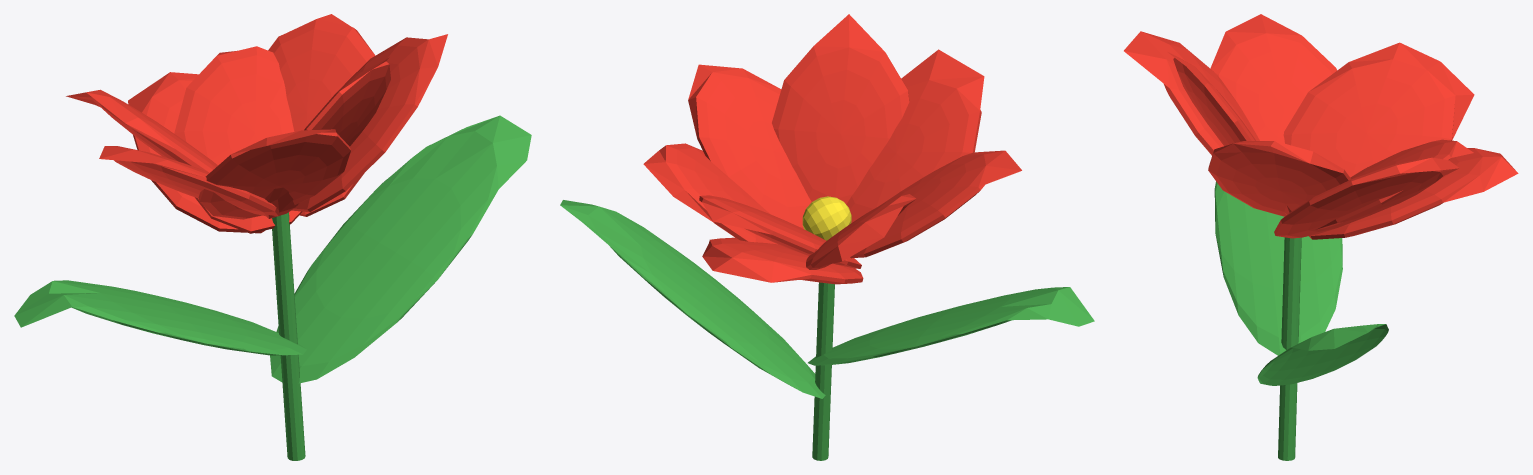
File: RedFlower.fbx
The picture shows the model from 3 angles, left to right: view 1: azimuth 30°, elevation 25°; view 2: azimuth 150°, elevation 25°; view 3: azimuth 270°, elevation 25°; orthographic projection. The views are drawn at different scales.
Parts seen in each view (by area): view 1: group632163950, group279081239, group222131052, group341342680, group1598894503, group726883720, group1800673276, group1860435482, group549322403, group665637453, group290790927; view 2: group1860435482, group632163950, group726883720, group341342680, group222131052, group549322403, group1598894503, group665637453, group279081239, group290790927, group1800673276, group1492198814; view 3: group290790927, group222131052, group549322403, group726883720, group1598894503, group665637453, group632163950, group341342680, group1800673276, group1860435482, group279081239.
Boxes of the visible parts, bbox=[...] form: group632163950: bbox=[270, 115, 531, 383]; group279081239: bbox=[174, 46, 302, 233]; group222131052: bbox=[14, 280, 306, 355]; group341342680: bbox=[198, 129, 350, 219]; group1598894503: bbox=[268, 14, 375, 216]; group726883720: bbox=[291, 34, 447, 212]; group1800673276: bbox=[272, 212, 305, 460]; group1860435482: bbox=[265, 57, 390, 218]; group549322403: bbox=[99, 146, 279, 216]; group665637453: bbox=[128, 72, 265, 233]; group290790927: bbox=[66, 89, 217, 172]; group1860435482: bbox=[772, 14, 909, 204]; group632163950: bbox=[560, 200, 825, 398]; group726883720: bbox=[688, 64, 811, 228]; group341342680: bbox=[846, 49, 984, 222]; group222131052: bbox=[808, 287, 1094, 365]; group549322403: bbox=[850, 150, 1021, 258]; group1598894503: bbox=[643, 143, 777, 244]; group665637453: bbox=[702, 237, 863, 284]; group279081239: bbox=[699, 195, 861, 268]; group290790927: bbox=[806, 194, 916, 269]; group1800673276: bbox=[812, 282, 834, 460]; group1492198814: bbox=[802, 196, 851, 240]; group290790927: bbox=[1283, 42, 1474, 177]; group222131052: bbox=[1214, 181, 1342, 355]; group549322403: bbox=[1210, 14, 1336, 143]; group726883720: bbox=[1208, 141, 1350, 216]; group1598894503: bbox=[1274, 157, 1459, 238]; group665637453: bbox=[1309, 148, 1518, 239]; group632163950: bbox=[1257, 324, 1388, 385]; group341342680: bbox=[1124, 31, 1259, 155]; group1800673276: bbox=[1278, 237, 1301, 460]; group1860435482: bbox=[1167, 52, 1291, 214]; group279081239: bbox=[1316, 139, 1473, 229].
Bounding box in the file's own units: 70.04 × 53.35 × 45.37.
